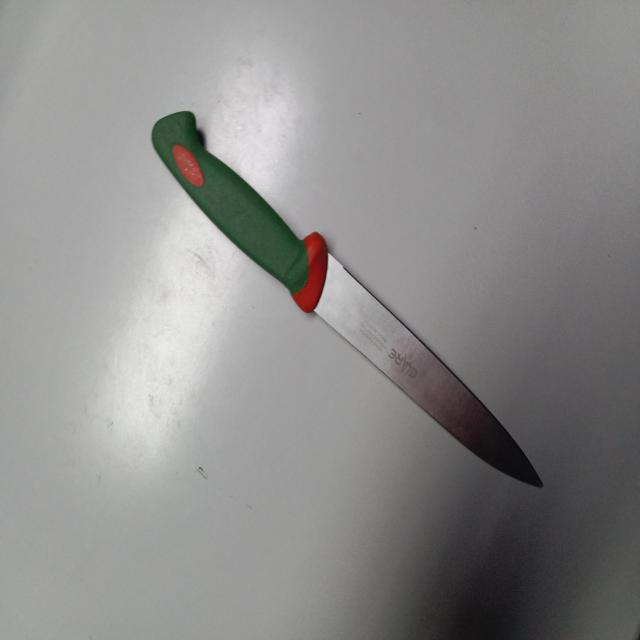Knife: (152, 110, 543, 487)
